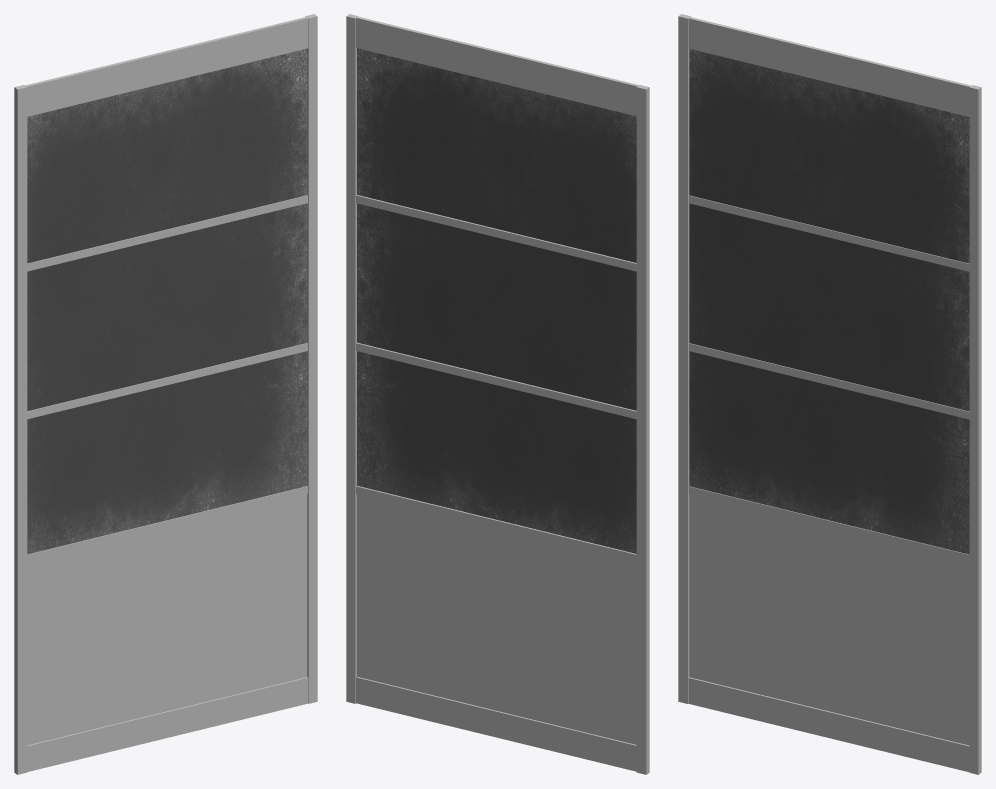
Rendered from shop_izakaya_door1.fbx.
3 views of the same model, side by side, from view 1: azimuth 30°, elevation 25°; view 2: azimuth 150°, elevation 25°; view 3: azimuth 330°, elevation 25° (orthographic).
Parts seen in each view (by area): view 1: shop_izakaya_door1; view 2: shop_izakaya_door1; view 3: shop_izakaya_door1.
Boxes of the visible parts, x1,y1,x2,y2 form: shop_izakaya_door1: [14, 14, 317, 774]; shop_izakaya_door1: [346, 14, 649, 774]; shop_izakaya_door1: [678, 14, 981, 774].
Size of the model in its own units: 1.16 by 2.52 by 0.0215.
